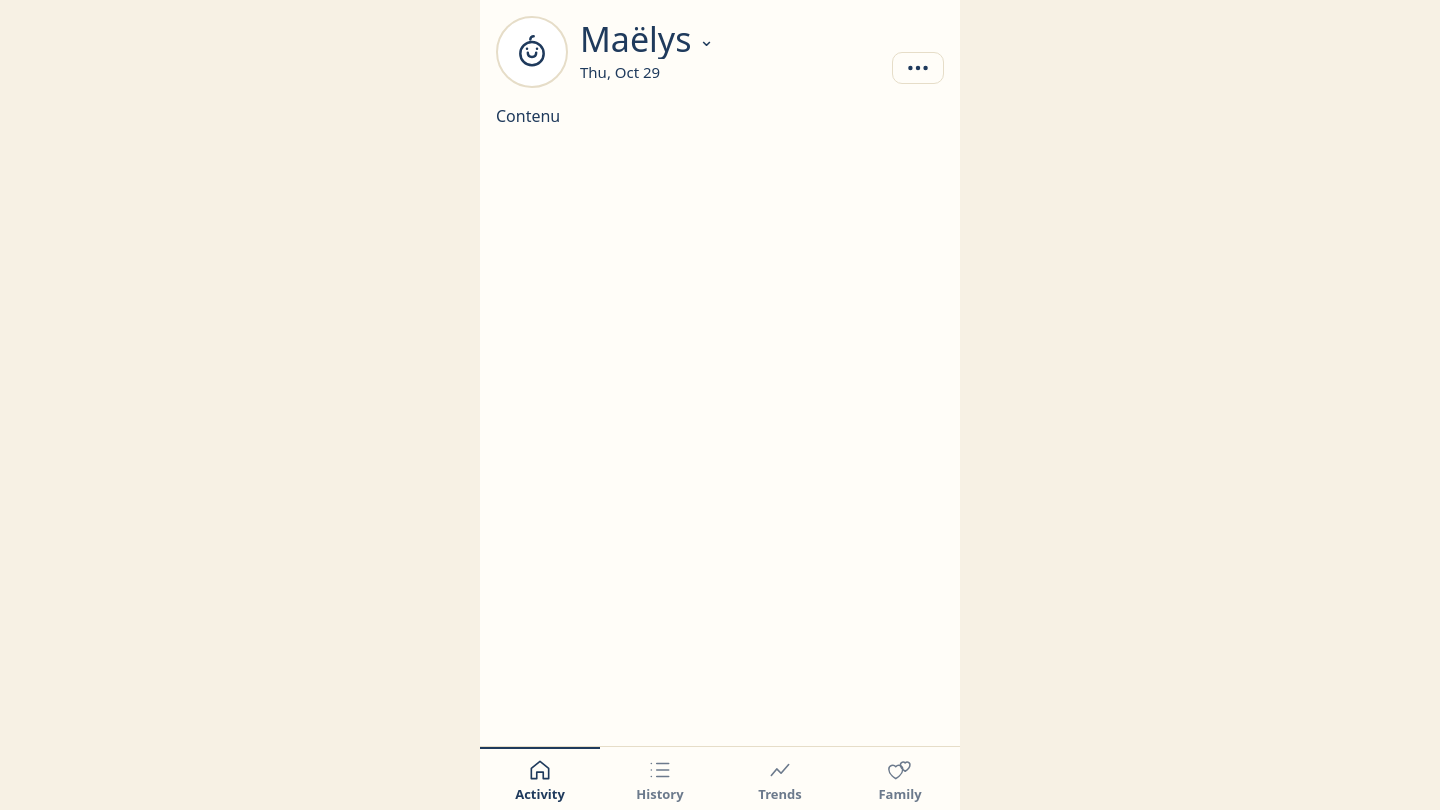
Scenario: Layout › opens the Summary from the "…" button on the Activity screen, and closes it
This screenshot has width=1440, height=810.
What coordinates should you click on to do the following:
click the button named "Summary"
I would click on:
 (918, 68)
Its box is [892,52,944,84].
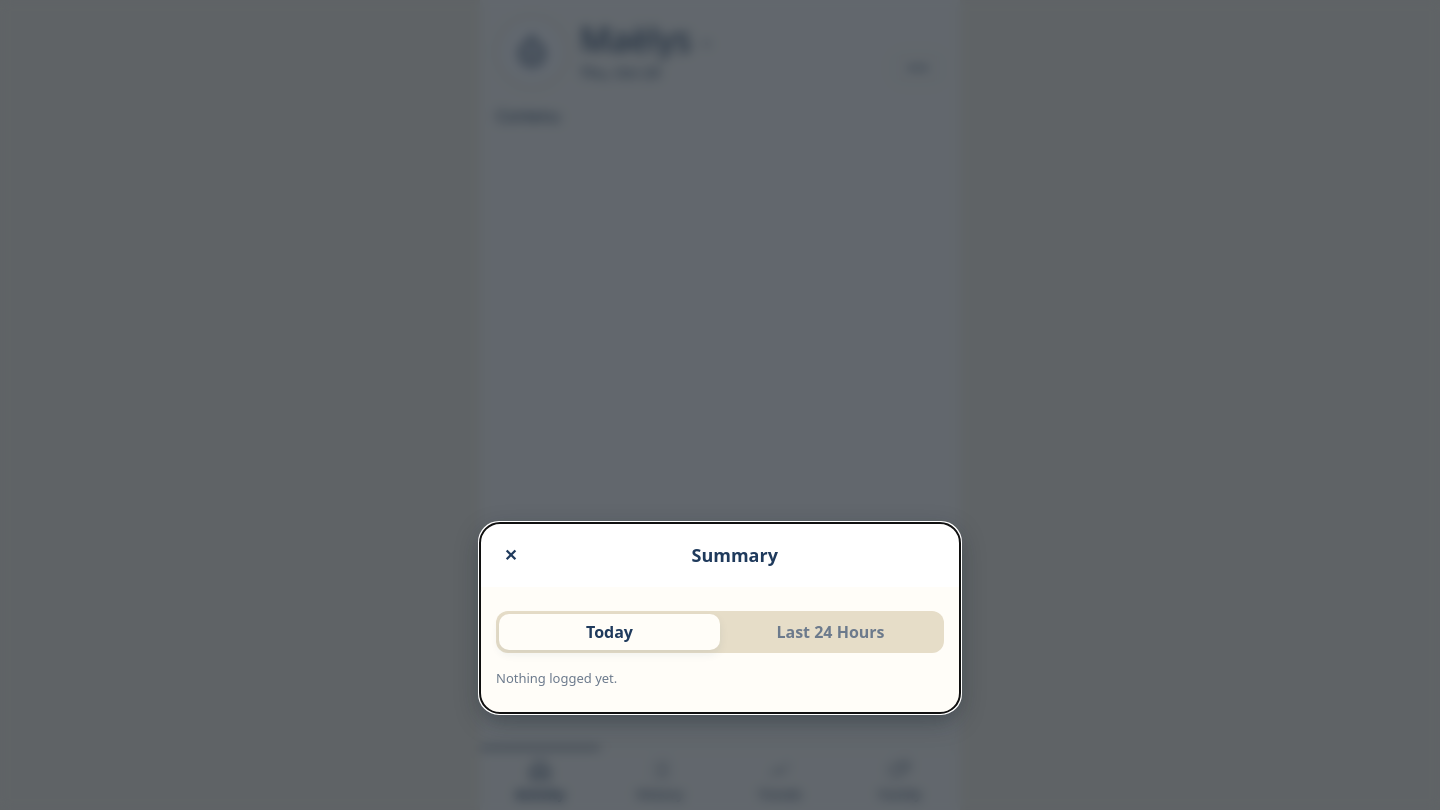
Expected: the dialog "Summary" is shown, [480,523,960,713]
Expected: the text "Nothing logged yet." is shown, [496,669,617,687]
What coordinates should you click on to do the following:
click the button named "Close"
I would click on:
 (511, 555)
Its box is [496,539,525,571].
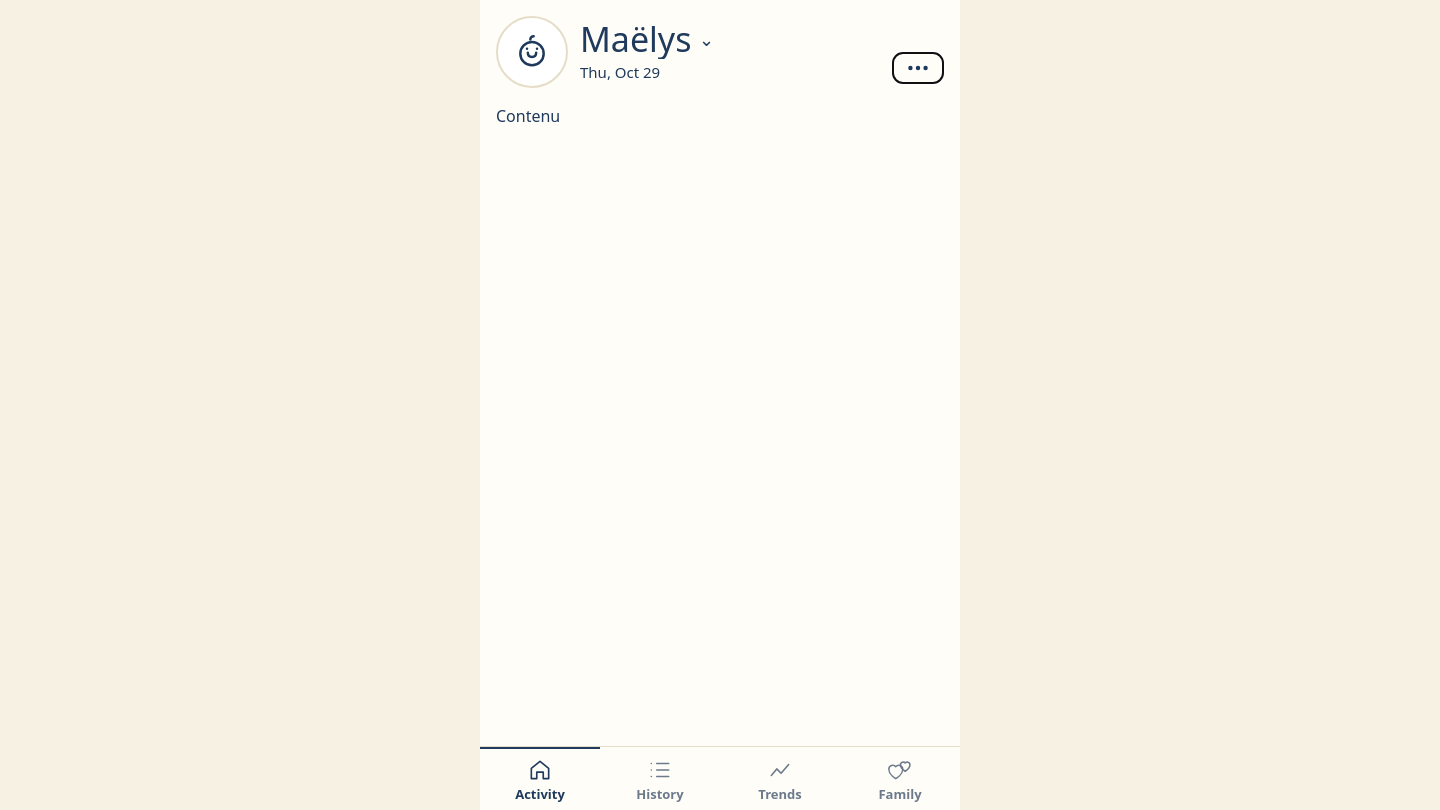
Expected: the dialog is gone
